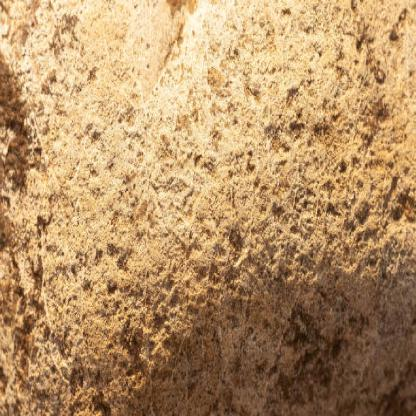Sedimentary_Limestone: (6, 9, 416, 415)
